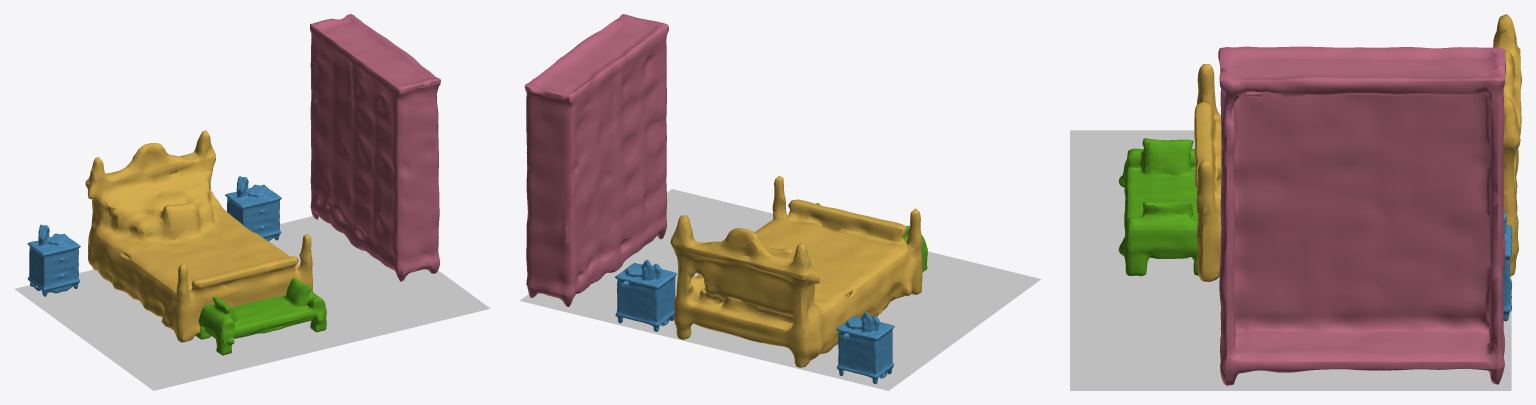
The model's file is Bedroom.glb.
The picture shows the model from 3 angles, left to right: view 1: azimuth 30°, elevation 25°; view 2: azimuth 150°, elevation 25°; view 3: azimuth 270°, elevation 25°; orthographic projection. The views are drawn at different scales.
Parts seen in each view (by area): view 1: world; view 2: world; view 3: world.
Part boxes in pixels (x1,y1,x2,y2): world: [15, 14, 490, 390]; world: [519, 14, 1041, 390]; world: [1070, 14, 1521, 390].
Size of the model in its own units: 4.38 by 2.45 by 3.21.
